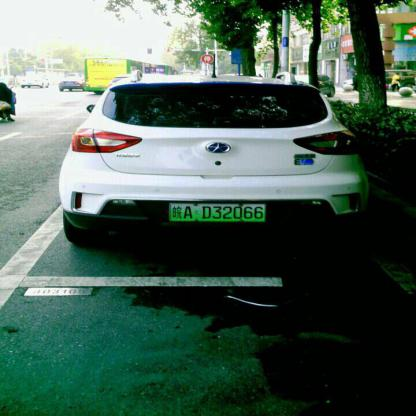lp: (170, 204, 265, 221)
